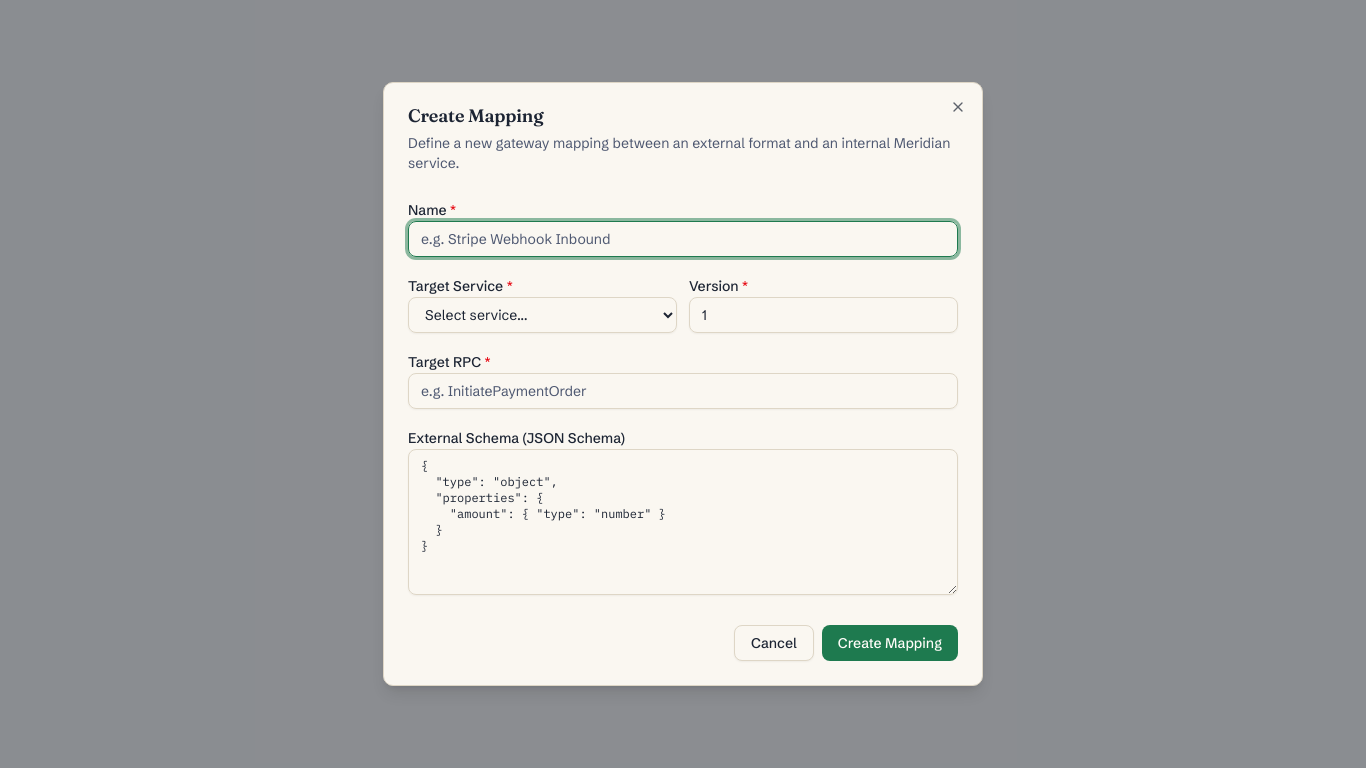
Test: CreateMappingDialog - validation › shows validation error when target service not selected
Type "My Mapping" into the field labelled "Name *" at (683,239), box 408,221 -> 958,257
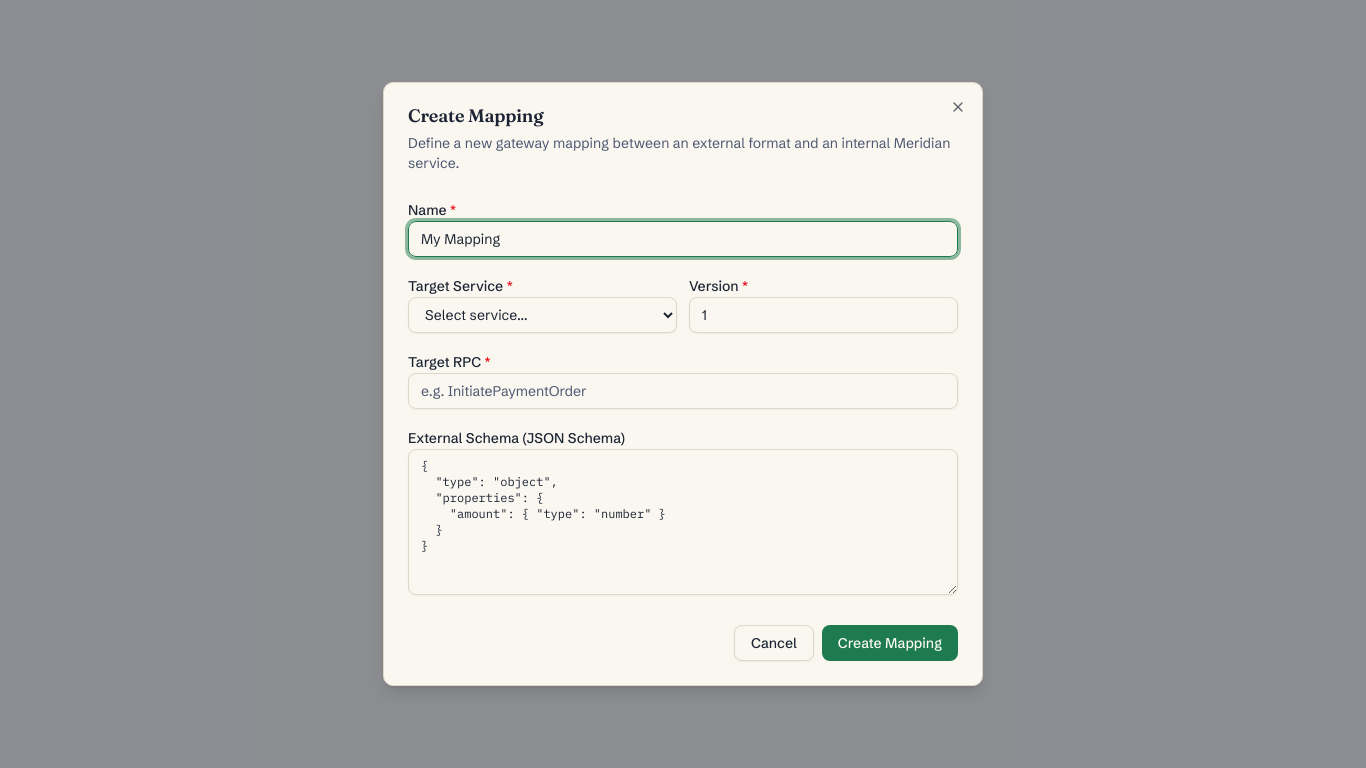
Click the button "Create Mapping" at (890,643), box 822,625 -> 958,661
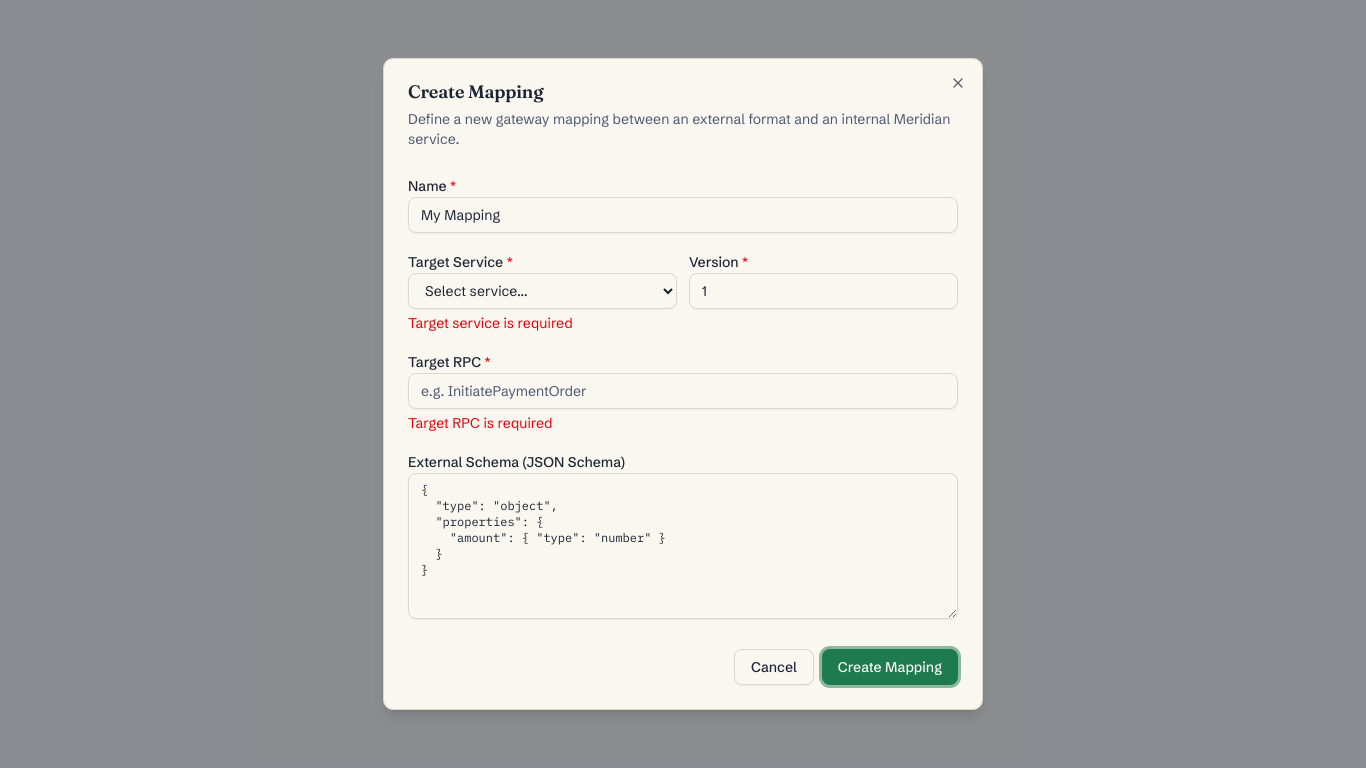
Expected: the text "Target service is required" is shown, 408,314 -> 573,332
